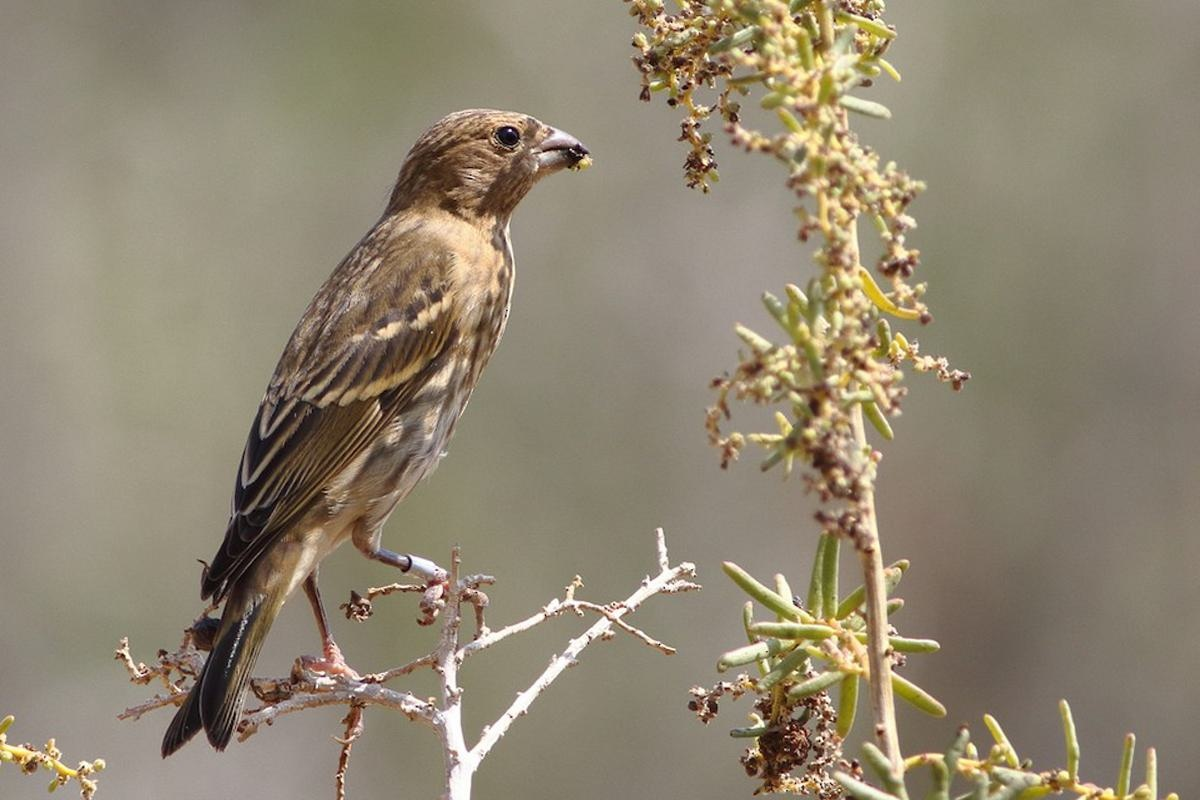rosefinch: (166, 116, 586, 696)
